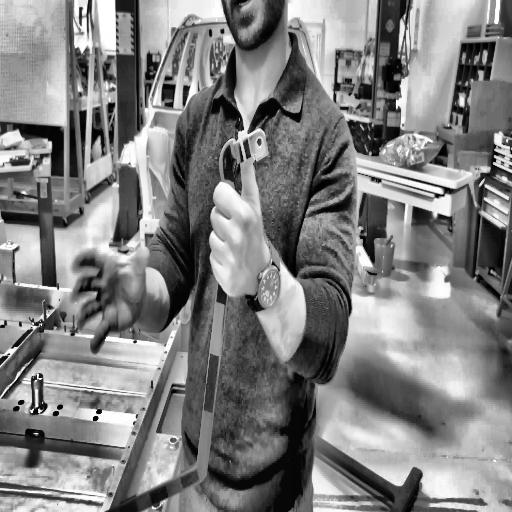busbar: (102, 132, 274, 512)
